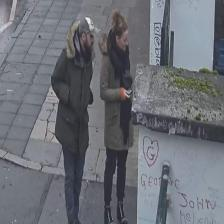person: (50, 16, 97, 224), (99, 9, 133, 224)
